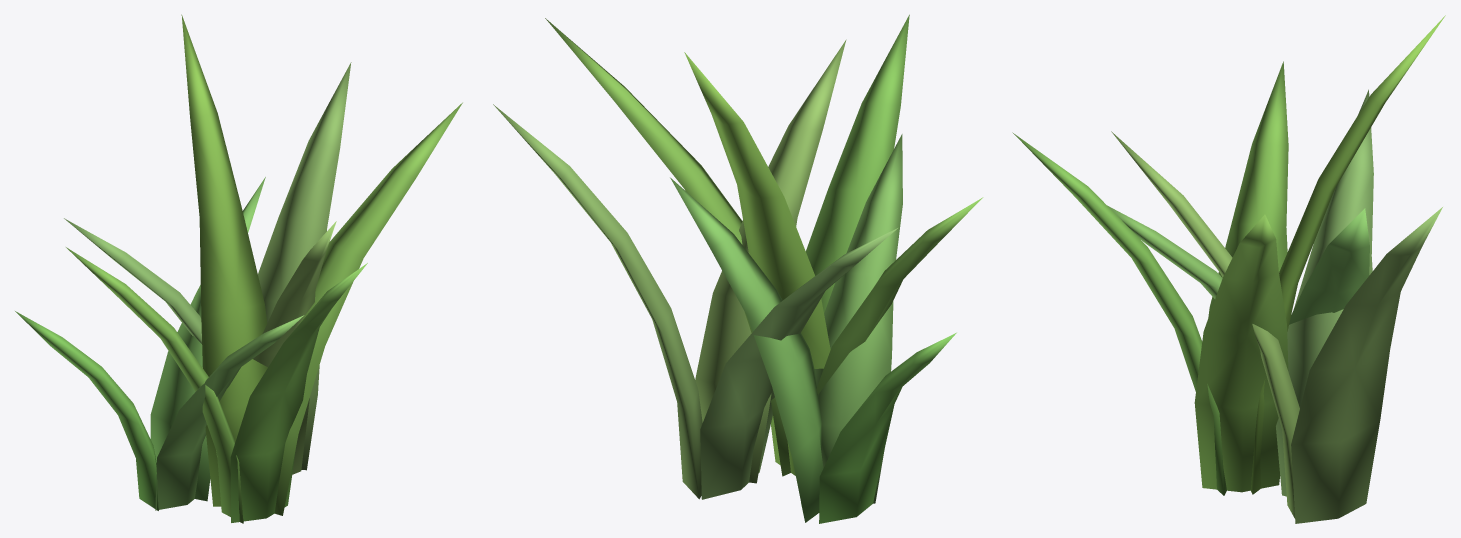
File: W1_FloraRing_8_12.fbx
3 renders of one model, left to right at view 1: azimuth 30°, elevation 25°; view 2: azimuth 150°, elevation 25°; view 3: azimuth 270°, elevation 25°, orthographic. The views are drawn at different scales.
Parts seen in each view (by area): view 1: W1_FloraRing_8_12; view 2: W1_FloraRing_8_12; view 3: W1_FloraRing_8_12.
Part boxes in pixels (x1=…): W1_FloraRing_8_12: x1=15, y1=14, x2=462, y2=523; W1_FloraRing_8_12: x1=493, y1=14, x2=983, y2=523; W1_FloraRing_8_12: x1=1012, y1=15, x2=1445, y2=523.
Bounding box in the file's own units: 0.1268 × 0.1263 × 0.1041.
